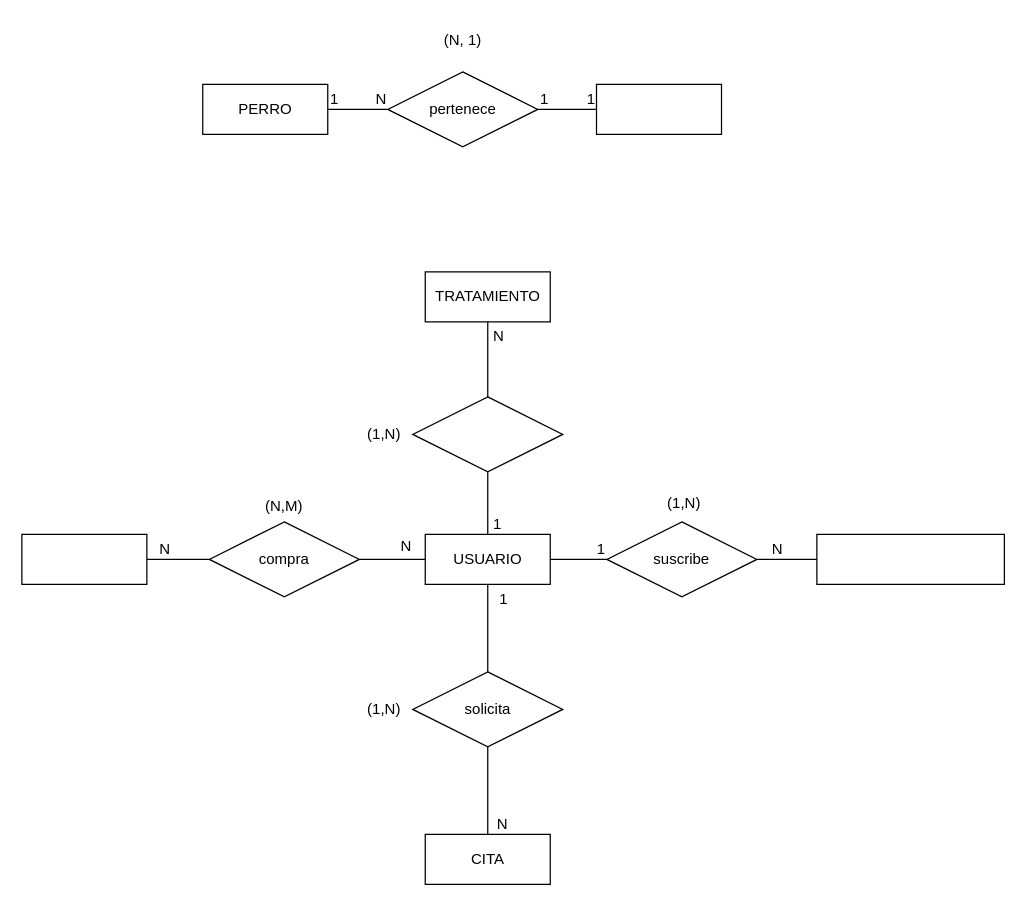
Image size: 1026x906. Some labels were removed from this diagram. The centre of each missing label's shape, as x and y in pixels:
APADRINAMIENTO: the point at 910,558
paga: the point at 487,434
PROTECTORA: the point at 658,108
REGALO: the point at 84,558
